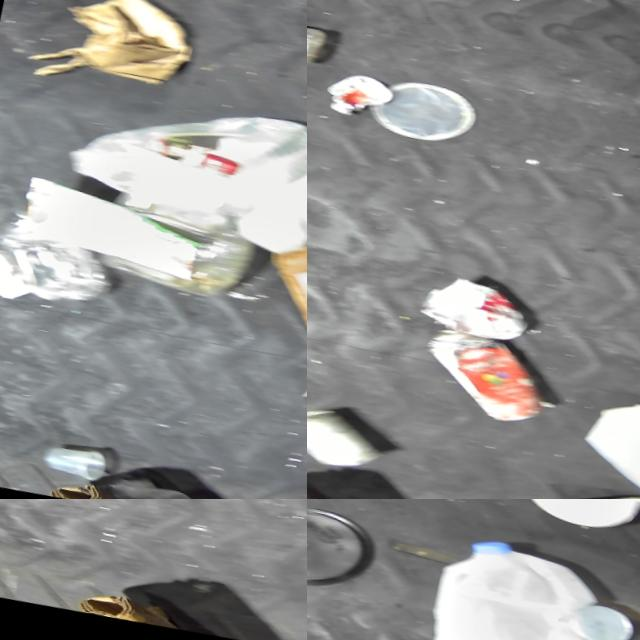can: (307, 395, 385, 481), (552, 479, 640, 499)
milk_jug: (57, 71, 307, 250), (412, 527, 610, 640), (228, 120, 307, 292)
